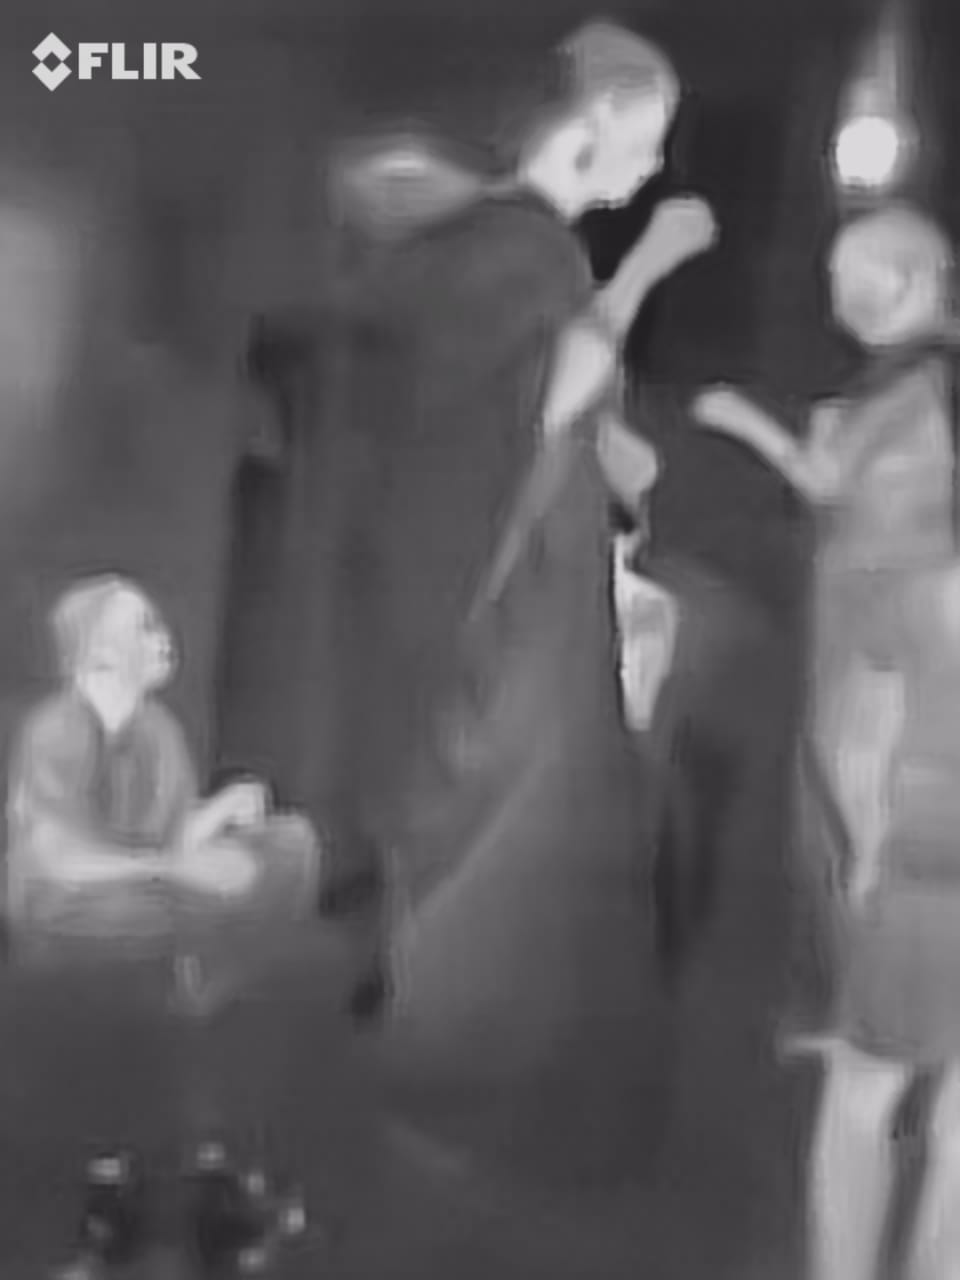head: (513, 18, 680, 221), (45, 571, 179, 714)
